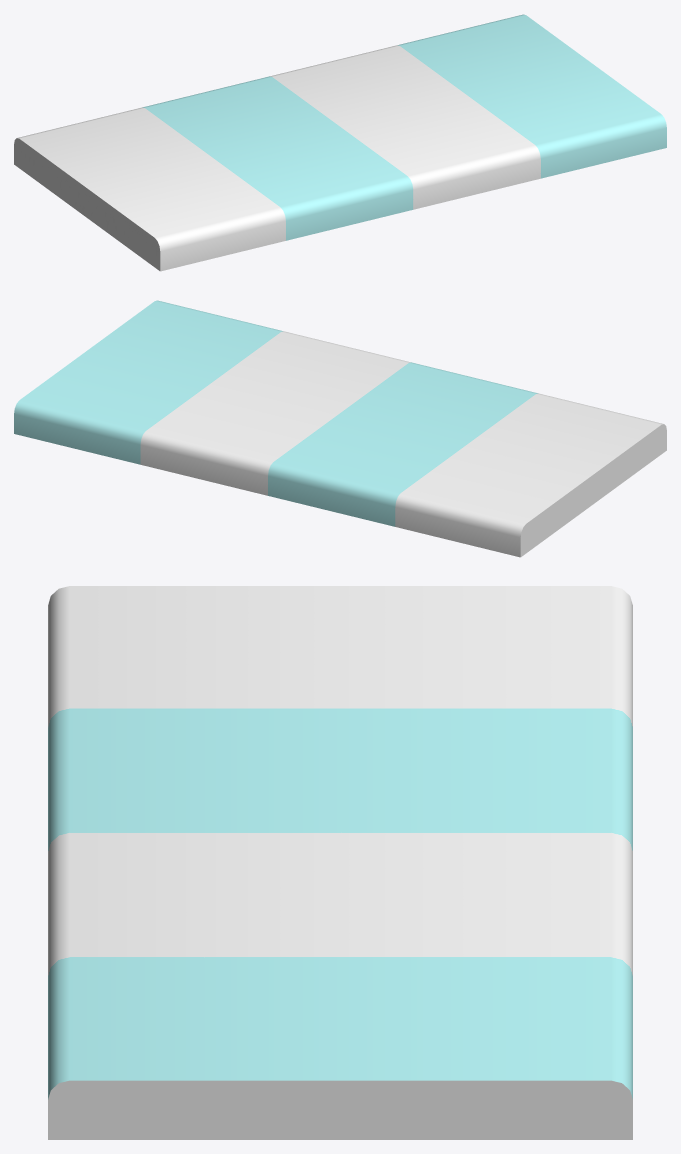
The model's file is RoadStraight1_blue.fbx.
3 renders of one model, top to bottom at view 1: azimuth 30°, elevation 25°; view 2: azimuth 150°, elevation 25°; view 3: azimuth 270°, elevation 25°, orthographic. The views are drawn at different scales.
Parts seen in each view (by area): view 1: RoadStraight1; view 2: RoadStraight1; view 3: RoadStraight1.
Boxes of the visible parts, x1,y1,x2,y2 form: RoadStraight1: (14,14,666,271); RoadStraight1: (14,300,666,557); RoadStraight1: (48,586,632,1139).
Size of the model in its own units: 600 by 33.61 by 300.
1 material, 1 textured.
